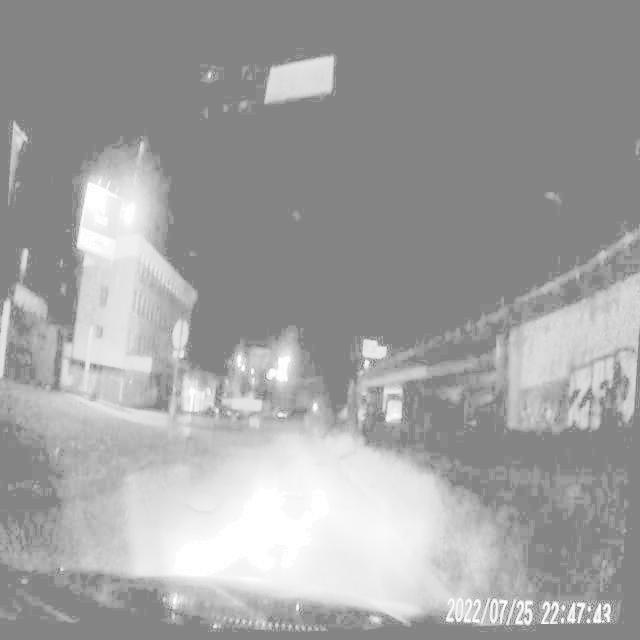Pothole: (177, 484, 228, 529), (278, 481, 307, 512)
